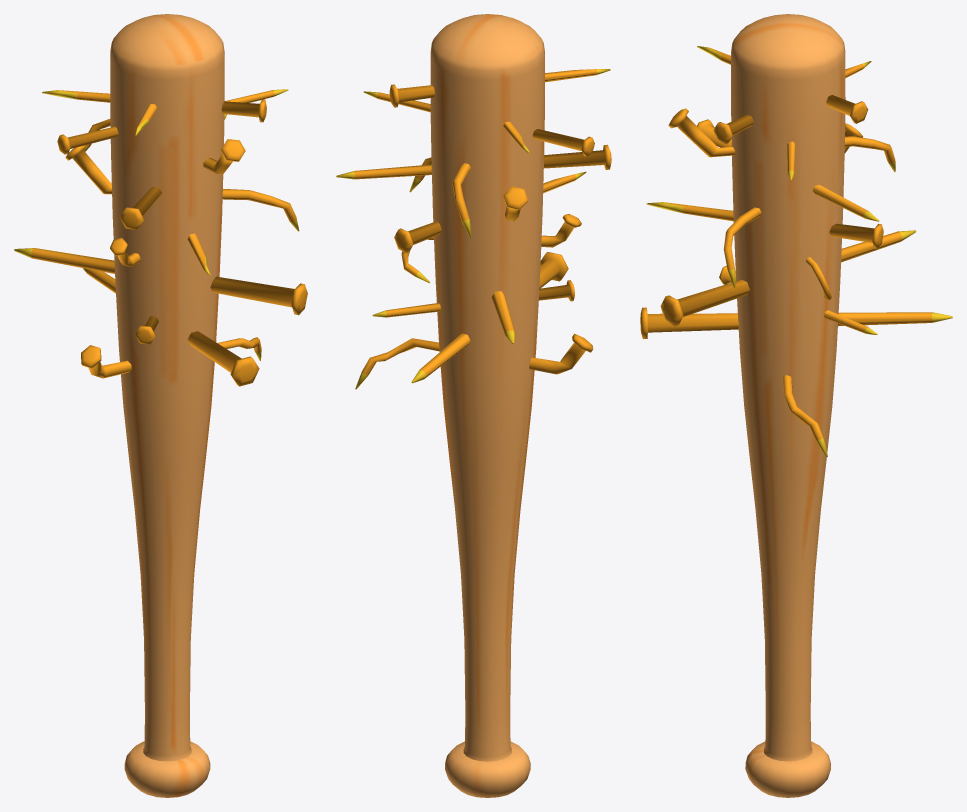
Rendered from BaseballBit nailed.fbx.
3 views of the same model, side by side, from view 1: azimuth 30°, elevation 25°; view 2: azimuth 150°, elevation 25°; view 3: azimuth 270°, elevation 25° (orthographic).
Parts seen in each view (by area): view 1: BaseballBit_mesh; view 2: BaseballBit_mesh; view 3: BaseballBit_mesh.
Boxes of the visible parts, x1,y1,x2,y2 form: BaseballBit_mesh: (14,14,307,797); BaseballBit_mesh: (336,14,611,797); BaseballBit_mesh: (640,14,952,797).
Size of the model in its own units: 0.2783 by 0.9012 by 0.3312.
